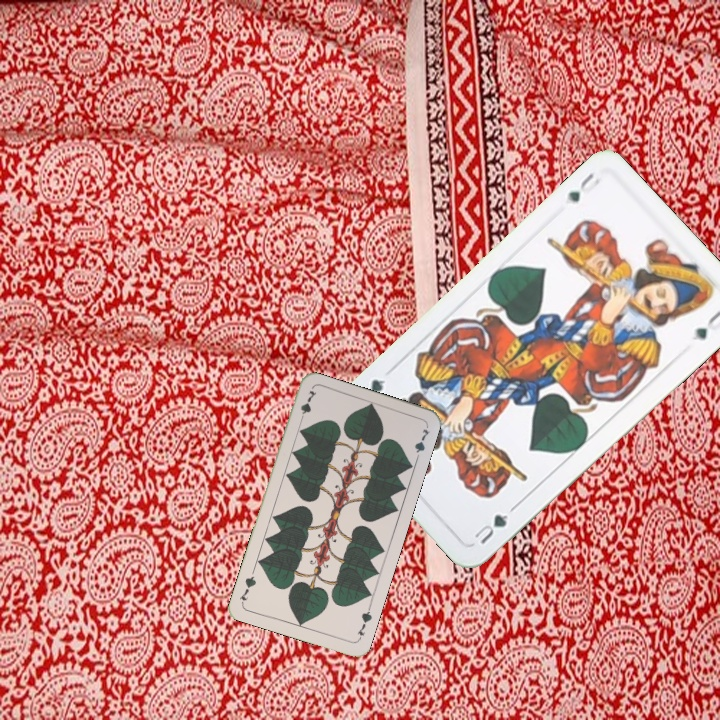G7: (296, 386, 319, 426), (353, 603, 375, 642)
GU: (470, 510, 511, 547), (562, 168, 603, 205)
